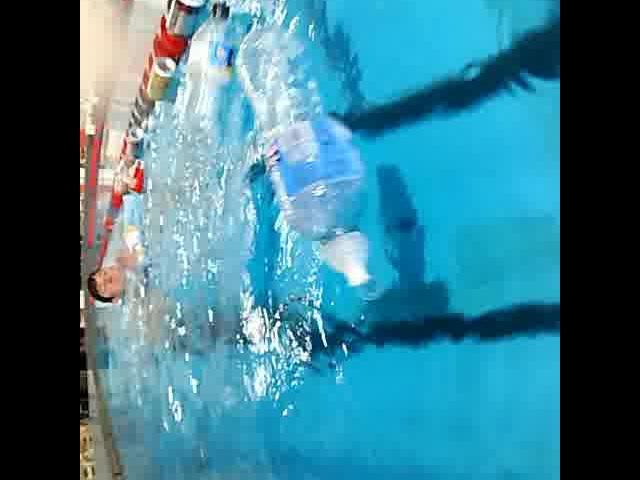Bottle: (229, 23, 382, 288), (170, 0, 240, 142)
Can: (142, 56, 178, 100)
